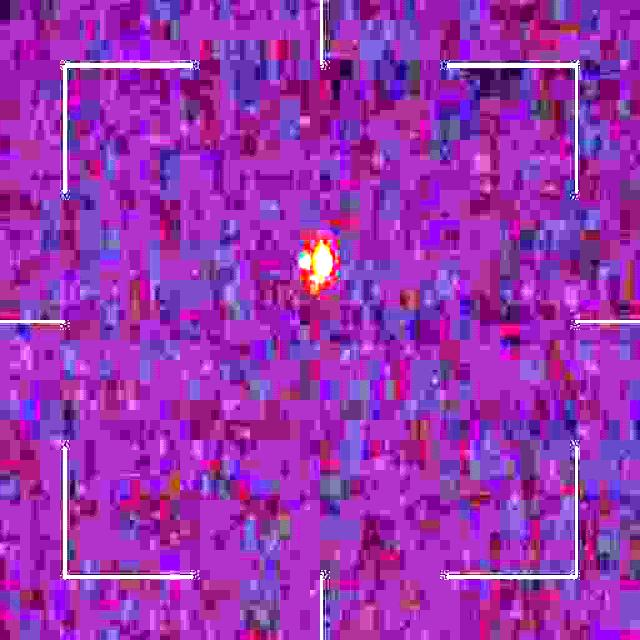bird: (299, 244, 335, 290)
